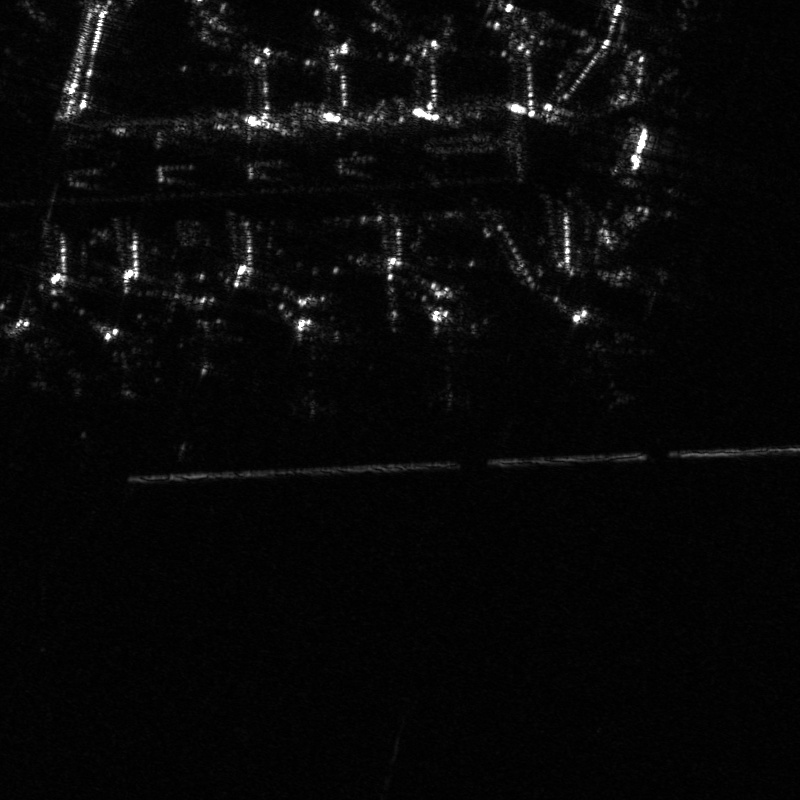A220: (163, 313, 250, 394)
Boeing737: (550, 296, 666, 417), (83, 337, 165, 408)
Boeing787: (259, 315, 376, 419)
other: (397, 300, 497, 409)
